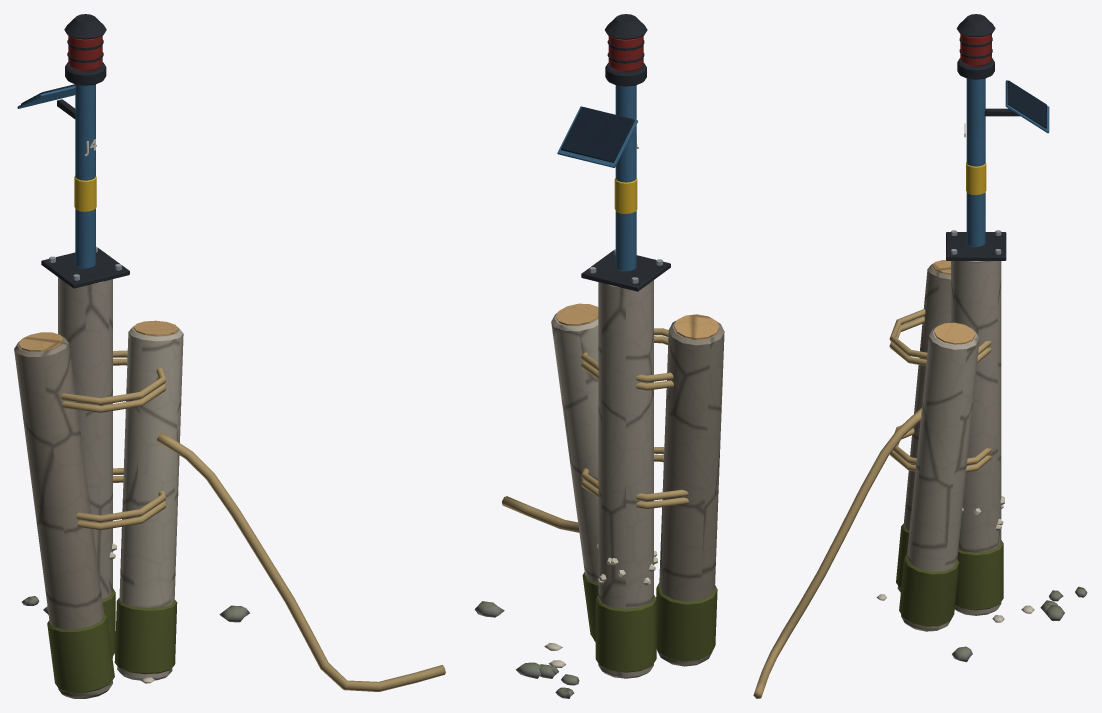
File: jetty_light.glb
3 renders of one model, left to right at view 1: azimuth 30°, elevation 25°; view 2: azimuth 150°, elevation 25°; view 3: azimuth 270°, elevation 25°, orthographic. The views are drawn at different scales.
Parts seen in each view (by area): view 1: jetty_light; view 2: jetty_light; view 3: jetty_light.
Boxes of the visible parts, x1,y1,x2,y2 form: jetty_light: [14, 14, 445, 698]; jetty_light: [474, 14, 724, 698]; jetty_light: [753, 14, 1087, 698].
Size of the model in its own units: 2.14 by 4.13 by 2.11.
17 materials, 17 textured.
